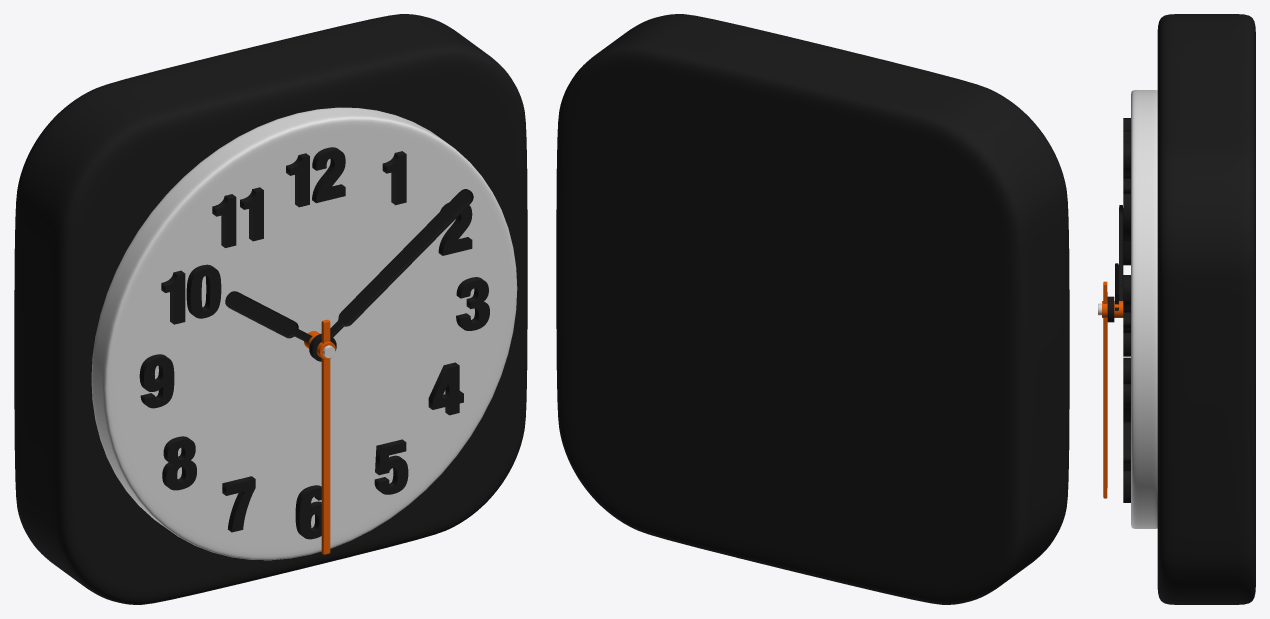
The model's file is clock.glb.
3 renders of one model, left to right at view 1: azimuth 30°, elevation 25°; view 2: azimuth 150°, elevation 25°; view 3: azimuth 270°, elevation 25°, orthographic. The views are drawn at different scales.
Parts seen in each view (by area): view 1: Circle.030, Cube.013, Cube.017, Cube.015, Cube.016, Text.011, Text.010, Text.013, Text.007, Text.017, Text.005, Text.006 (+8 smaller); view 2: Cube.013; view 3: Cube.013, Circle.030, Cube.015, Cube.016, Text.004, Text.017, Text.005, Text.006, Text.003, Text.007, Circle.032, Text.010.
Part boxes in pixels (x1,y1,x2,y2): Circle.030: (91, 107, 517, 560); Cube.013: (14, 14, 527, 604); Cube.017: (330, 189, 473, 337); Cube.015: (321, 319, 330, 554); Cube.016: (225, 291, 312, 343); Text.011: (139, 354, 174, 408); Text.010: (162, 436, 196, 490); Text.013: (186, 264, 221, 318); Text.007: (374, 439, 408, 494); Text.017: (312, 147, 345, 203); Text.005: (456, 277, 489, 330); Text.006: (428, 362, 463, 415); Cube.013: (556, 14, 1069, 604); Cube.013: (1157, 14, 1255, 604); Circle.030: (1131, 90, 1157, 528); Cube.015: (1103, 281, 1107, 498); Cube.016: (1119, 205, 1123, 300); Text.004: (1123, 275, 1130, 328); Text.017: (1123, 141, 1130, 193); Text.005: (1123, 357, 1130, 407); Text.006: (1123, 421, 1130, 470); Text.003: (1123, 193, 1130, 241); Text.007: (1123, 471, 1130, 502); Circle.032: (1102, 301, 1123, 317); Text.010: (1123, 328, 1130, 356).
Bounding box in the file's own units: 5.42 × 5.42 × 1.71.
